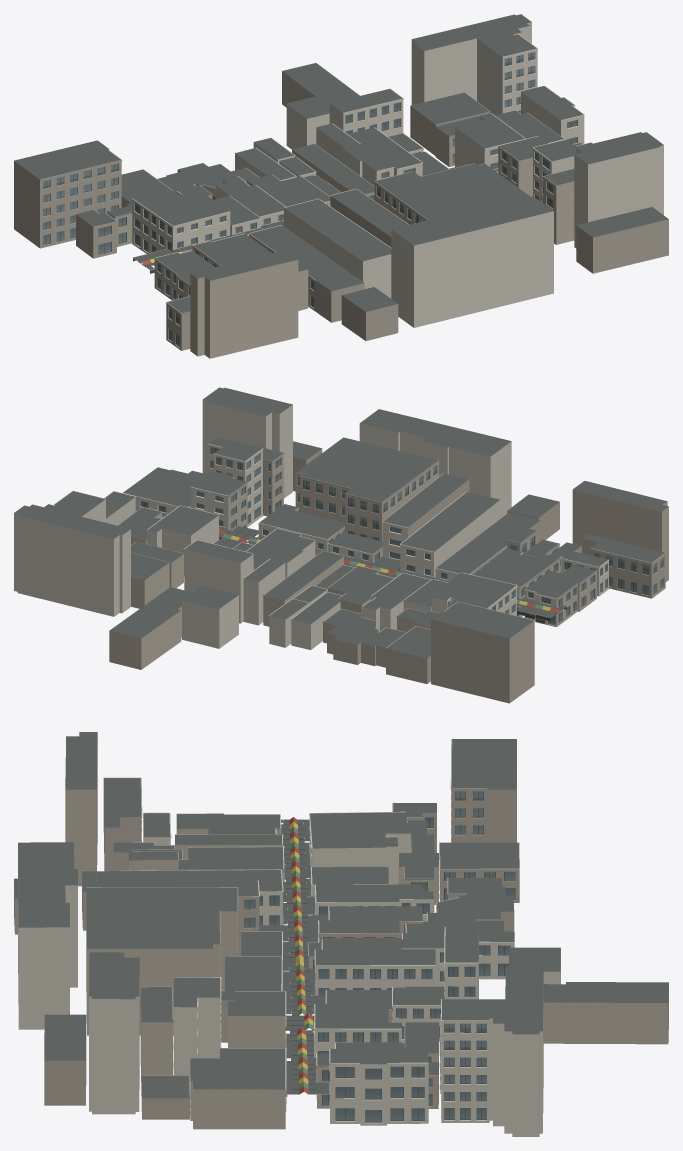
Rendered from near.gltf.
3 renders of one model, top to bottom at view 1: azimuth 30°, elevation 25°; view 2: azimuth 150°, elevation 25°; view 3: azimuth 270°, elevation 25°, orthographic. The views are drawn at different scales.
Parts seen in each view (by area): view 1: cell-e004-n001_near_roof, cell-e004-n001_near_plaster, cell-e004-n001_near_stone, cell-e004-n001_near_tile-wall, cell-e004-n001_near_glass, cell-e004-n001_near_granite, cell-e004-n001_near_frame, cell-e004-n001_near_Canopy_roof; view 2: cell-e004-n001_near_roof, cell-e004-n001_near_plaster, cell-e004-n001_near_stone, cell-e004-n001_near_tile-wall, cell-e004-n001_near_glass, cell-e004-n001_near_granite, cell-e004-n001_near_Canopy_roof, cell-e004-n001_near_frame; view 3: cell-e004-n001_near_roof, cell-e004-n001_near_plaster, cell-e004-n001_near_stone, cell-e004-n001_near_tile-wall, cell-e004-n001_near_glass, cell-e004-n001_near_Canopy_roof, cell-e004-n001_near_frame, cell-e004-n001_near_granite, cell-e004-n001_near_Canopy_arcade-red, cell-e004-n001_near_Canopy_arcade-gold, cell-e004-n001_near_Canopy_arcade-green, cell-e004-n001_near_Canopy_frame.
Part boxes in pixels (x1,y1,x2,y2): cell-e004-n001_near_roof: [14, 14, 668, 312]; cell-e004-n001_near_plaster: [132, 22, 663, 327]; cell-e004-n001_near_stone: [107, 71, 574, 358]; cell-e004-n001_near_tile-wall: [14, 110, 668, 350]; cell-e004-n001_near_glass: [43, 52, 576, 346]; cell-e004-n001_near_granite: [115, 92, 574, 299]; cell-e004-n001_near_frame: [43, 53, 577, 346]; cell-e004-n001_near_Canopy_roof: [133, 143, 582, 269]; cell-e004-n001_near_roof: [14, 387, 668, 658]; cell-e004-n001_near_plaster: [14, 399, 609, 649]; cell-e004-n001_near_stone: [109, 454, 668, 669]; cell-e004-n001_near_tile-wall: [226, 449, 666, 703]; cell-e004-n001_near_glass: [141, 447, 663, 623]; cell-e004-n001_near_granite: [117, 453, 597, 626]; cell-e004-n001_near_Canopy_roof: [135, 506, 566, 617]; cell-e004-n001_near_frame: [140, 447, 663, 623]; cell-e004-n001_near_roof: [14, 732, 668, 1098]; cell-e004-n001_near_plaster: [18, 811, 560, 1136]; cell-e004-n001_near_stone: [65, 748, 668, 1129]; cell-e004-n001_near_tile-wall: [14, 738, 519, 1119]; cell-e004-n001_near_glass: [244, 791, 514, 1122]; cell-e004-n001_near_Canopy_roof: [259, 819, 329, 1094]; cell-e004-n001_near_frame: [244, 791, 515, 1122]; cell-e004-n001_near_granite: [86, 813, 440, 1106]; cell-e004-n001_near_Canopy_arcade-red: [289, 817, 312, 1094]; cell-e004-n001_near_Canopy_arcade-gold: [289, 822, 313, 1084]; cell-e004-n001_near_Canopy_arcade-green: [290, 827, 313, 1089]; cell-e004-n001_near_Canopy_frame: [283, 819, 315, 1089].
Size of the model in its own units: 114 by 19.57 by 101.
15 materials, 6 textured.
